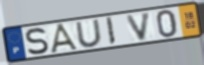0: (156, 8, 179, 39)
A: (49, 22, 82, 54)
I: (105, 16, 118, 47)
S: (25, 26, 50, 56)
U: (74, 18, 105, 49)
V: (125, 11, 153, 42)
